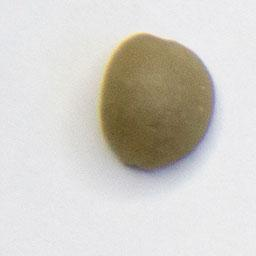premium: (95, 30, 217, 175)
